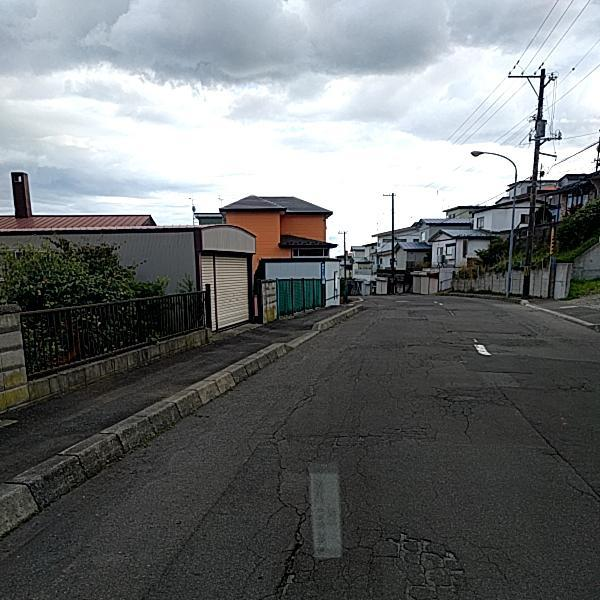D20: (216, 380, 538, 599)
D40: (381, 524, 465, 599), (267, 555, 298, 599)
